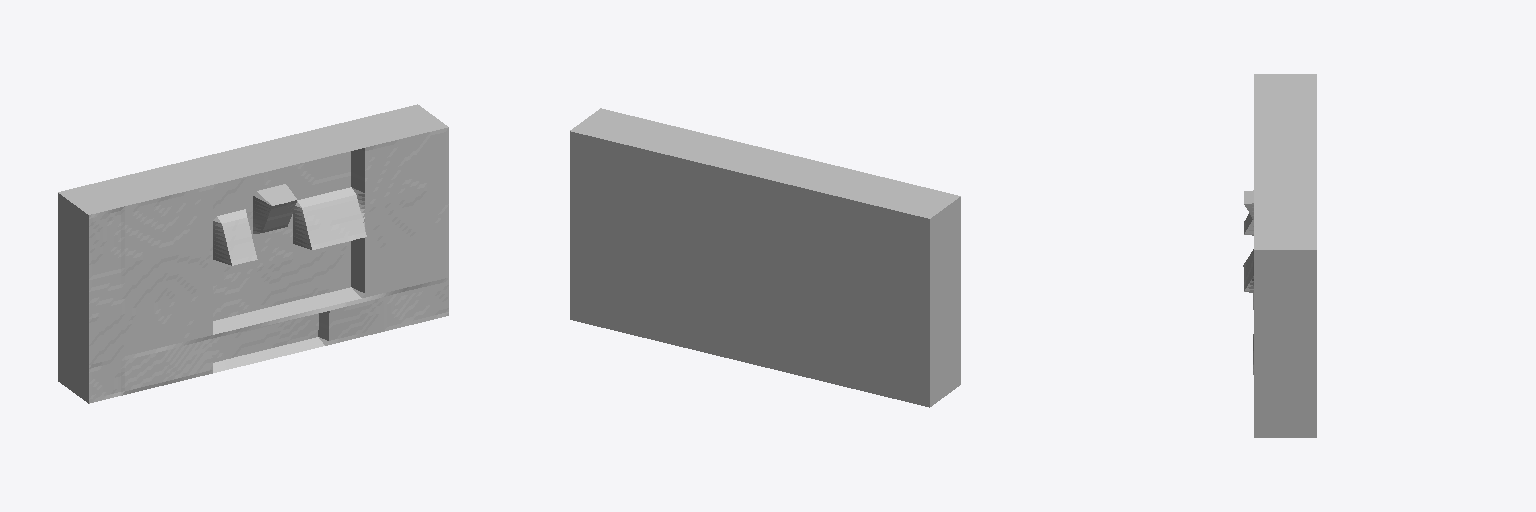
File: rectangular_prism_bumps_9_1.obj
The picture shows the model from 3 angles: view 1: azimuth 30°, elevation 25°; view 2: azimuth 150°, elevation 25°; view 3: azimuth 270°, elevation 25°; orthographic projection.
Bounding box in the file's own units: 10 × 5 × 1.75.